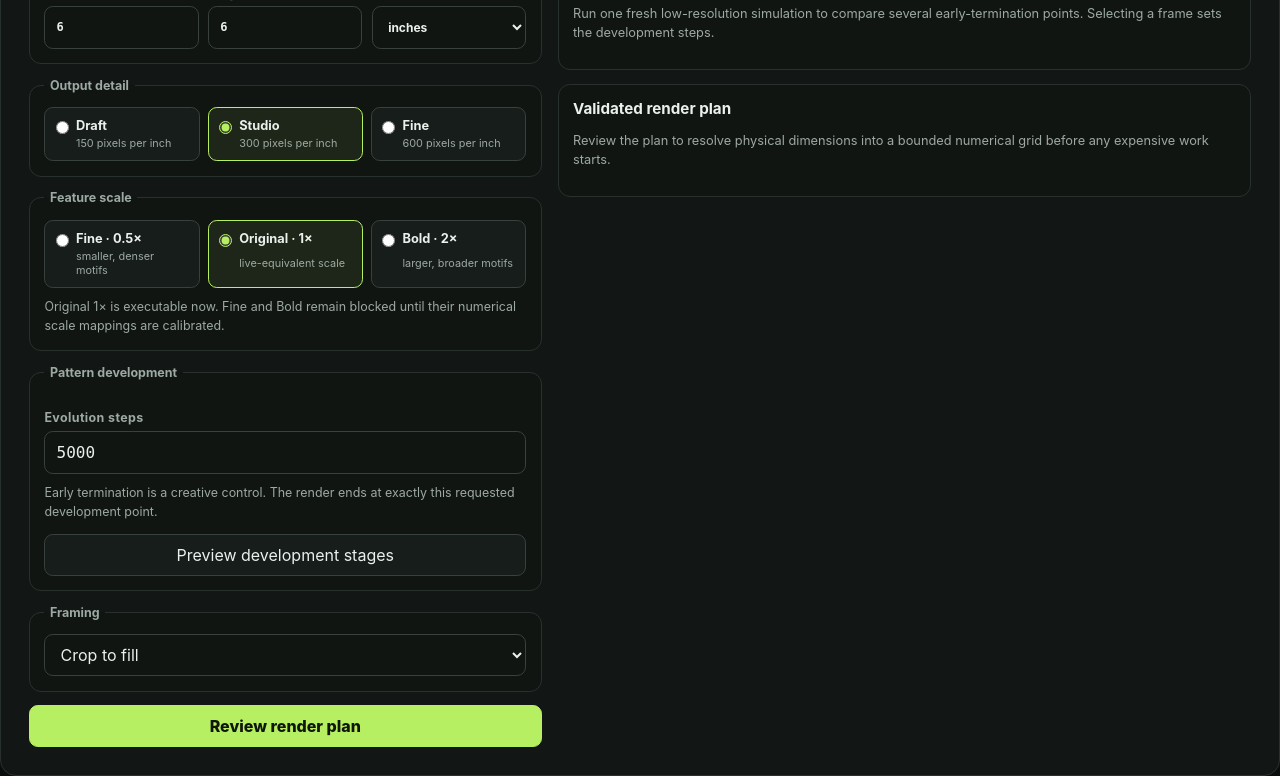
high-resolution render planning › queues an accepted plan and remembers the job for refresh recovery
(page scrolled)
Click the button "Review render plan": [285, 726] box [29,705,542,747]
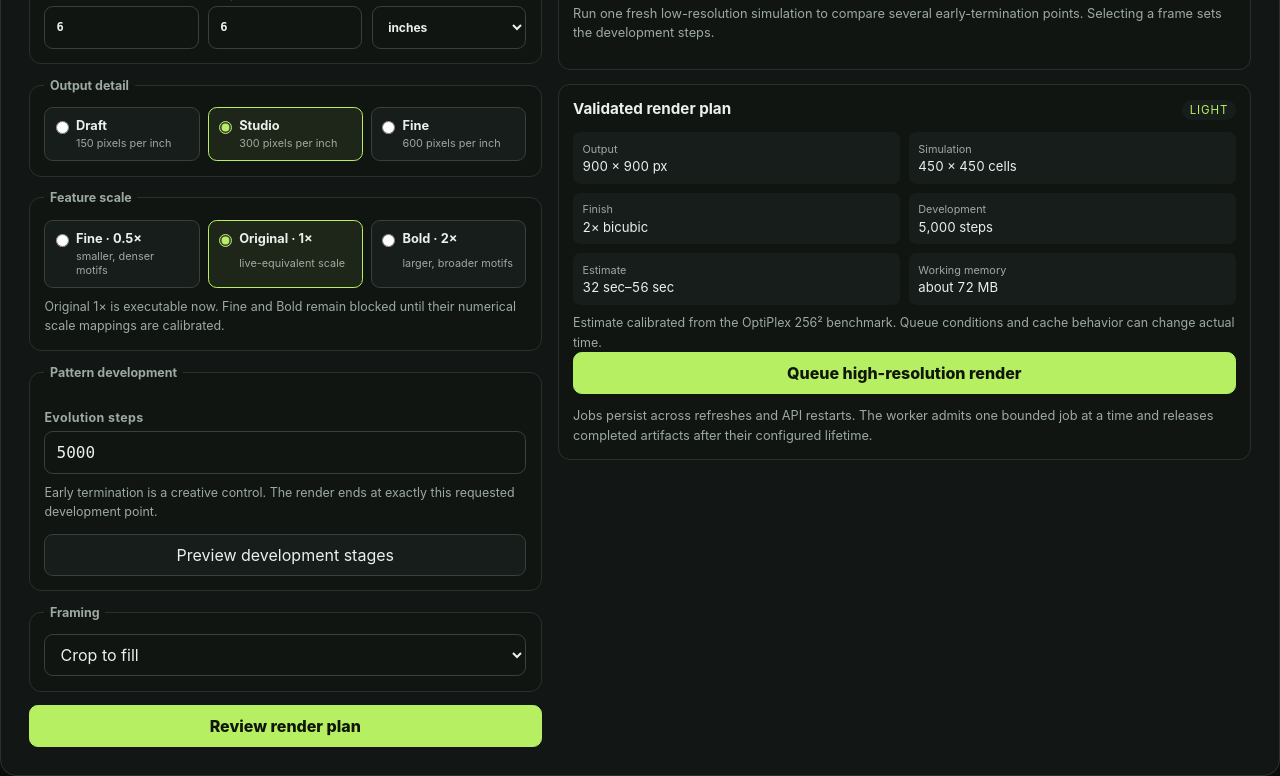
Now the text "900 × 900 px" is shown, box [582,158,668,174]
Click the button "Queue high-resolution render": [904, 373] box [573,352,1236,394]
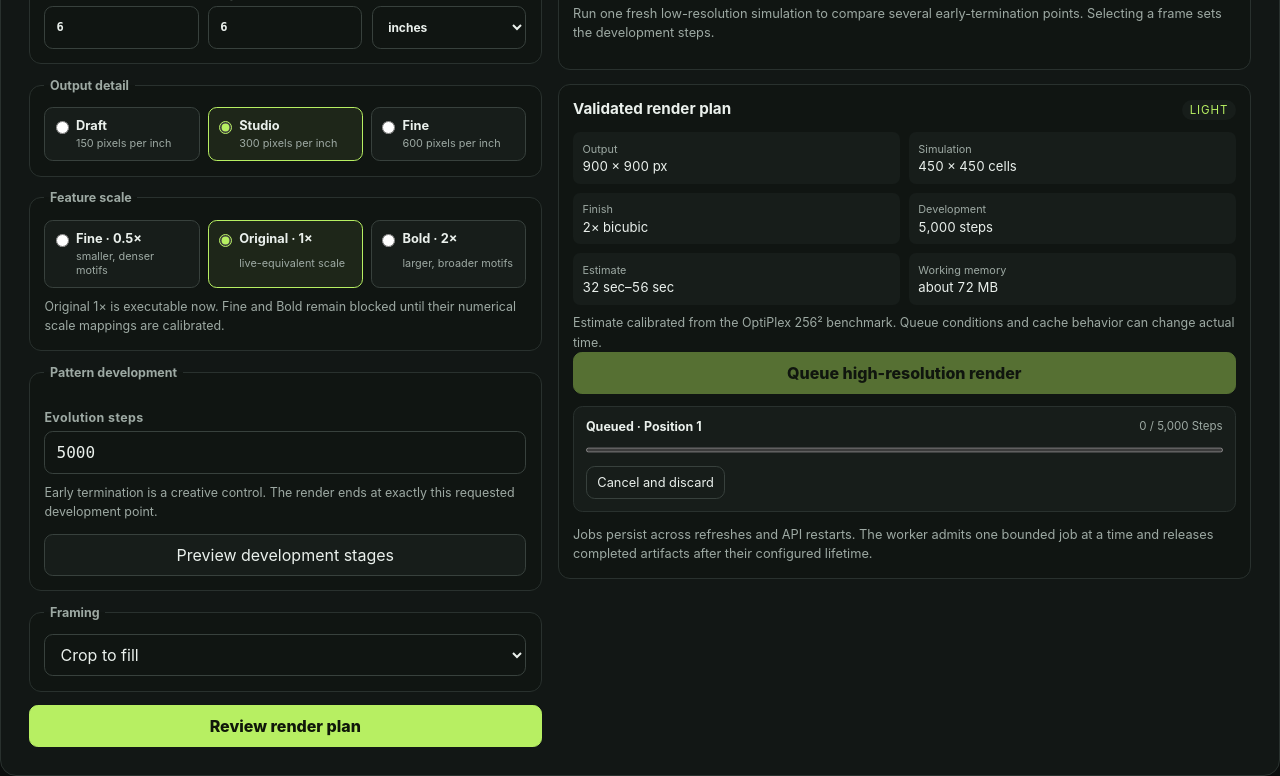
Now the text "Queued · position 1" is shown, box [586,419,702,434]
